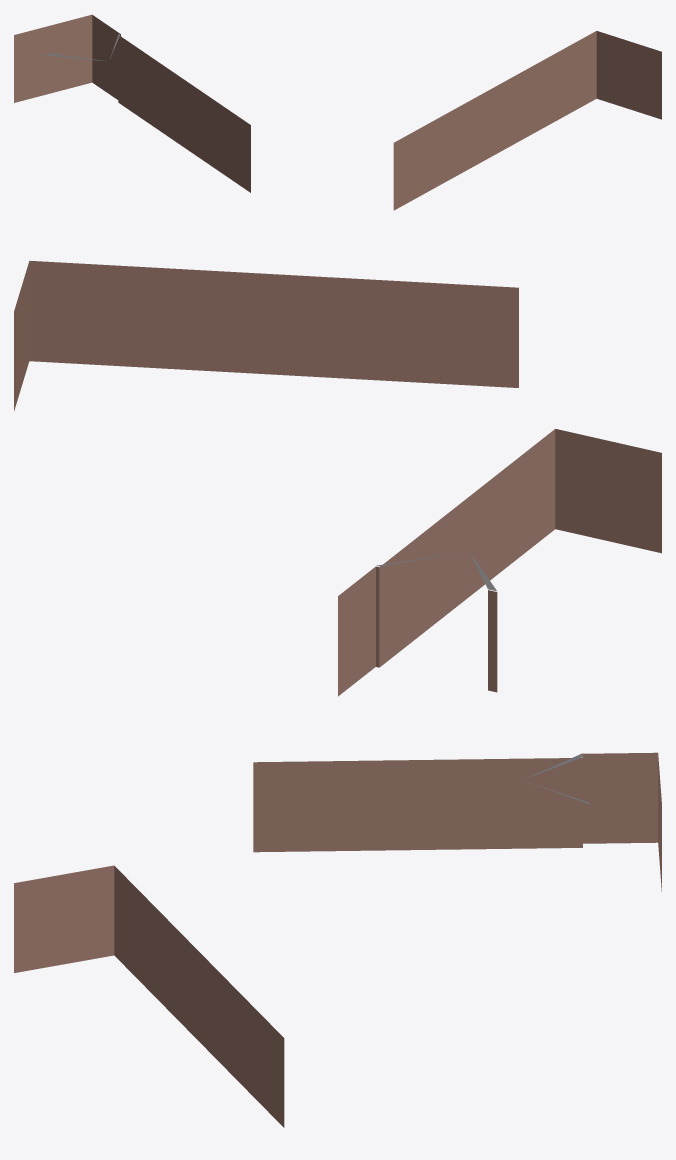
Rendered from c_1641_17820_buildings_residential.glb.
The picture shows the model from 3 angles, top to bottom: view 1: azimuth 30°, elevation 25°; view 2: azimuth 150°, elevation 25°; view 3: azimuth 270°, elevation 25°; orthographic projection. The views are drawn at different scales.
Parts seen in each view (by area): view 1: geometry_0; view 2: geometry_0; view 3: geometry_0.
Part boxes in pixels (<box>): geometry_0: <box>14,14,661,210</box>; geometry_0: <box>14,260,661,696</box>; geometry_0: <box>14,752,661,1127</box>.
Bounding box in the file's own units: 79.41 × 11.08 × 71.75.
